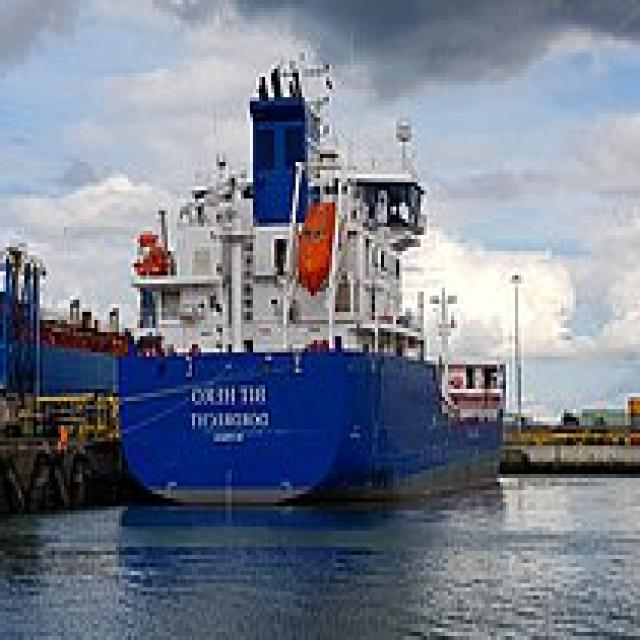Tanker: (119, 41, 515, 514)
